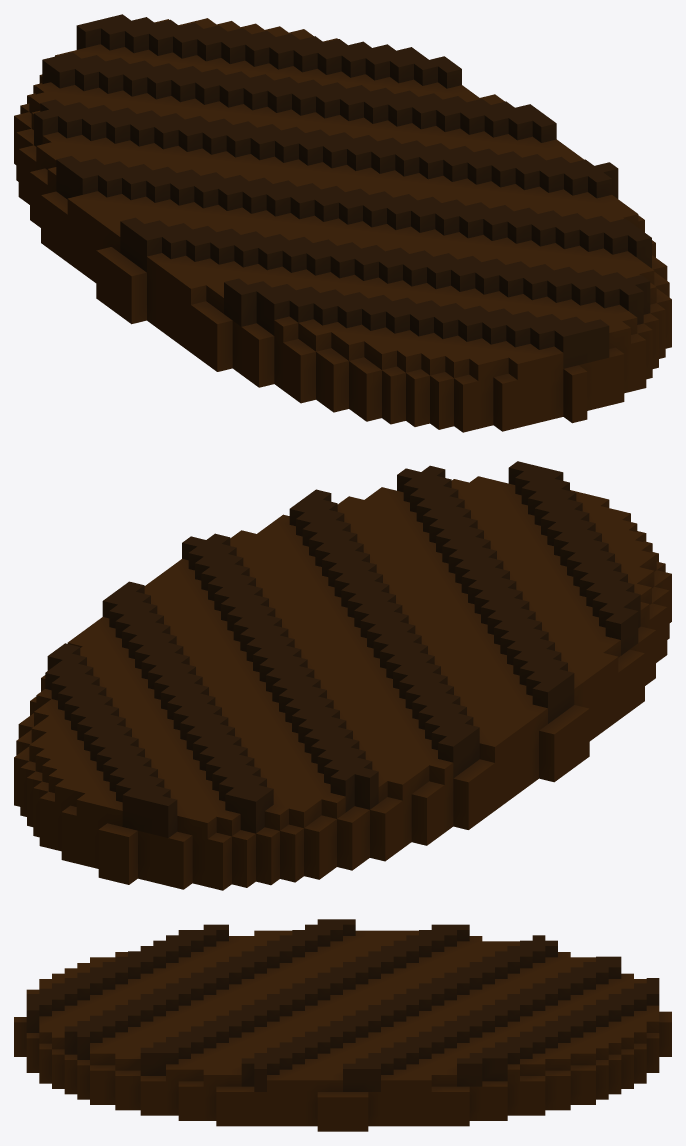
Rendered from CubikModel.obj.
3 views of the same model, one above another, from view 1: azimuth 30°, elevation 25°; view 2: azimuth 150°, elevation 25°; view 3: azimuth 270°, elevation 25° (orthographic). The views are drawn at different scales.
Visible parts, largest first — view 1: Chunk_9x6x8, Chunk_9x6x9, Chunk_9x6x10, Chunk_10x6x9, Chunk_9x6x7, Chunk_8x6x9, Chunk_10x6x8, Chunk_8x6x8, Chunk_8x6x10, Chunk_10x6x10; view 2: Chunk_9x6x10, Chunk_9x6x9, Chunk_9x6x8, Chunk_10x6x9, Chunk_8x6x9, Chunk_8x6x8, Chunk_8x6x10, Chunk_10x6x10, Chunk_10x6x8, Chunk_9x6x7; view 3: Chunk_8x6x9, Chunk_9x6x9, Chunk_9x6x10, Chunk_8x6x8, Chunk_9x6x8, Chunk_8x6x10, Chunk_10x6x9, Chunk_9x6x7, Chunk_10x6x8, Chunk_10x6x10, Chunk_8x6x7.
Boxes of the visible parts, x1,y1,x2,y2 form: Chunk_9x6x8: [243, 199, 628, 426]; Chunk_9x6x9: [103, 88, 479, 267]; Chunk_9x6x10: [14, 14, 345, 164]; Chunk_10x6x9: [41, 156, 242, 345]; Chunk_9x6x7: [430, 311, 646, 432]; Chunk_8x6x9: [347, 62, 593, 207]; Chunk_10x6x8: [182, 267, 348, 412]; Chunk_8x6x8: [489, 162, 671, 368]; Chunk_8x6x10: [241, 23, 452, 92]; Chunk_10x6x10: [16, 109, 94, 227]; Chunk_9x6x10: [39, 676, 406, 890]; Chunk_9x6x9: [163, 584, 548, 751]; Chunk_9x6x8: [304, 476, 671, 642]; Chunk_10x6x9: [408, 639, 609, 829]; Chunk_8x6x9: [41, 546, 303, 691]; Chunk_8x6x8: [182, 465, 445, 588]; Chunk_8x6x10: [14, 650, 154, 837]; Chunk_10x6x10: [337, 751, 453, 870]; Chunk_10x6x8: [555, 580, 669, 726]; Chunk_9x6x7: [451, 461, 652, 551]; Chunk_8x6x9: [267, 1026, 469, 1131]; Chunk_9x6x9: [267, 940, 469, 1037]; Chunk_9x6x10: [469, 940, 671, 1083]; Chunk_8x6x8: [64, 1026, 266, 1126]; Chunk_9x6x8: [64, 940, 266, 1037]; Chunk_8x6x10: [469, 1026, 633, 1120]; Chunk_10x6x9: [267, 919, 469, 951]; Chunk_9x6x7: [14, 973, 64, 1083]; Chunk_10x6x8: [166, 924, 266, 951]; Chunk_10x6x10: [469, 935, 545, 951]; Chunk_8x6x7: [52, 1049, 64, 1088].
Size of the model in its own units: 4.8 by 0.8 by 8.32.
